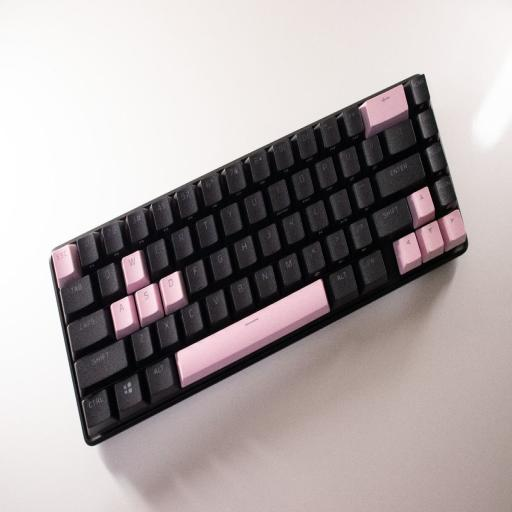keyboard: (50, 72, 478, 472)
